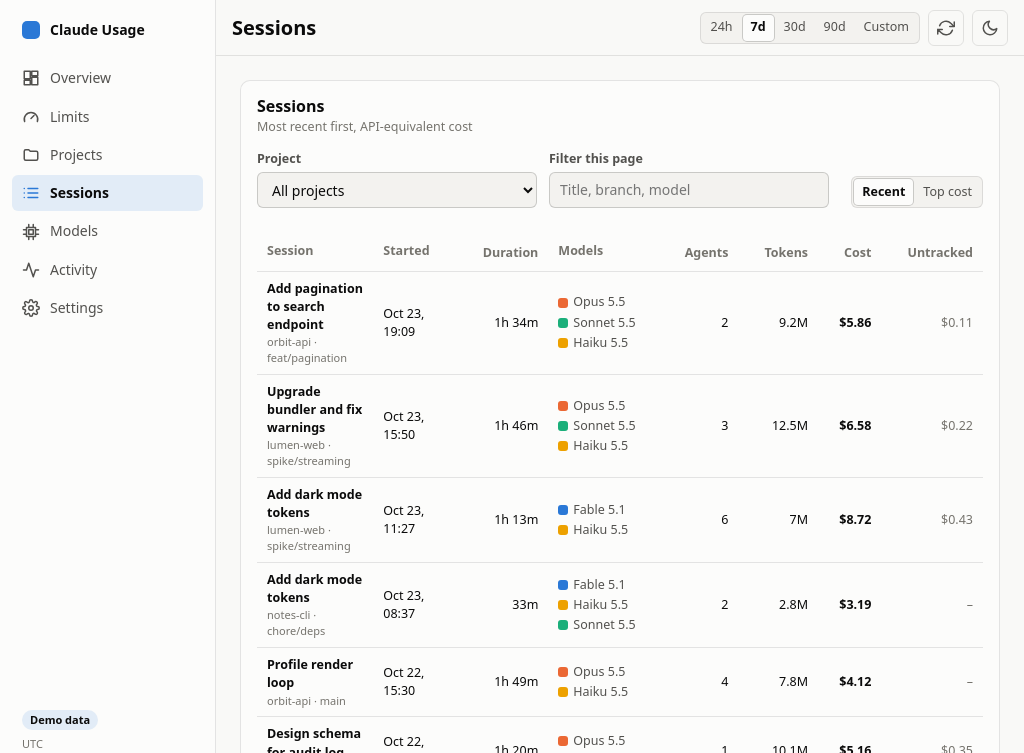
Sessions pages (demo) › lists sessions with pagination and opens a session
This screenshot has width=1024, height=753.
Click the row that starts with "Add pagination to search endpoint".
click(620, 323)  # box [257,272,983,374]
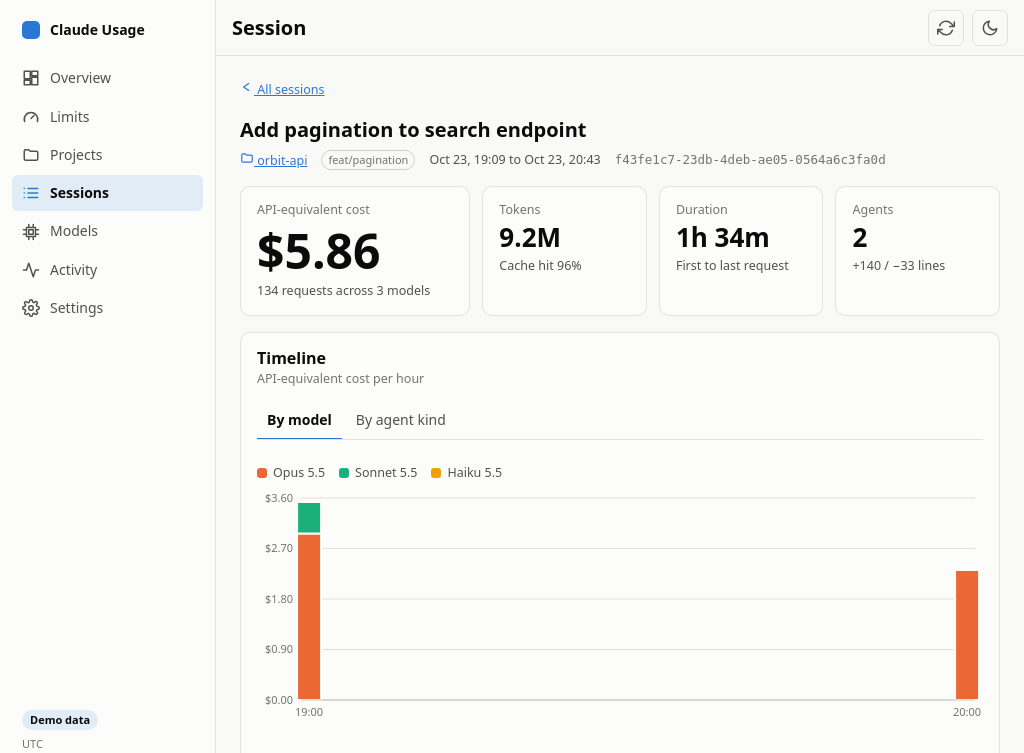
Expected: the text "API-equivalent cost" is shown, [257,201,370,218]
